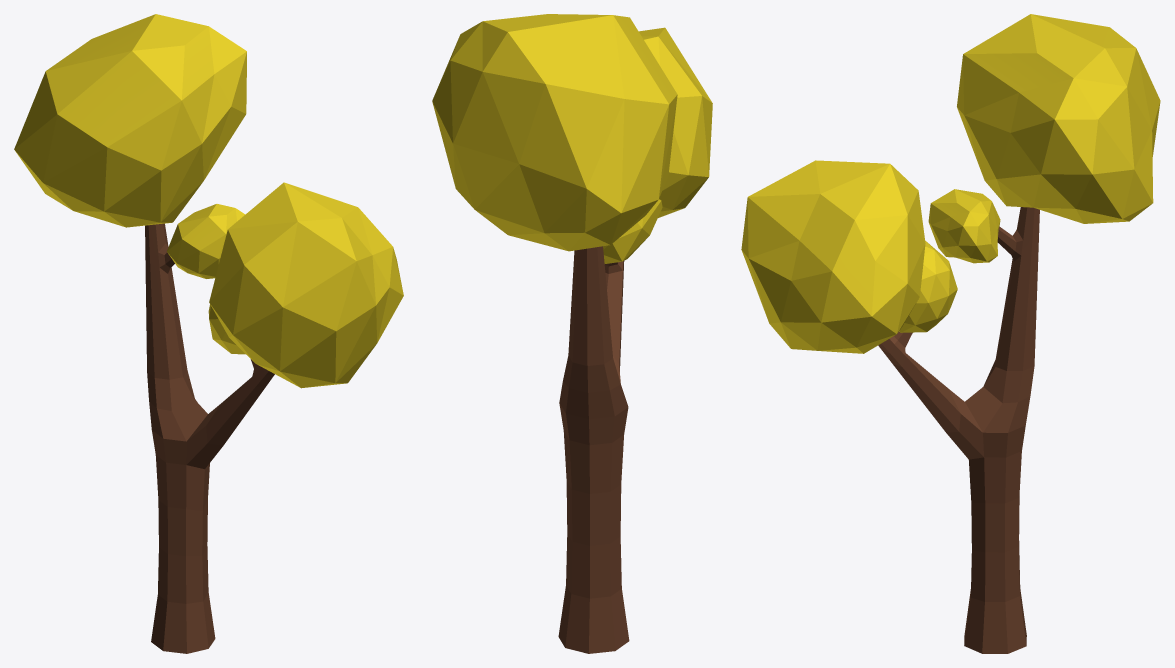
3 renders of one model, left to right at view 1: azimuth 30°, elevation 25°; view 2: azimuth 150°, elevation 25°; view 3: azimuth 270°, elevation 25°, orthographic. The views are drawn at different scales.
Parts seen in each view (by area): view 1: t7-yellow; view 2: t7-yellow; view 3: t7-yellow.
Part boxes in pixels (x1=…): t7-yellow: x1=14, y1=14, x2=403, y2=653; t7-yellow: x1=432, y1=14, x2=712, y2=653; t7-yellow: x1=741, y1=14, x2=1160, y2=653.
Bounding box in the file's own units: 454 × 1002 × 625.
